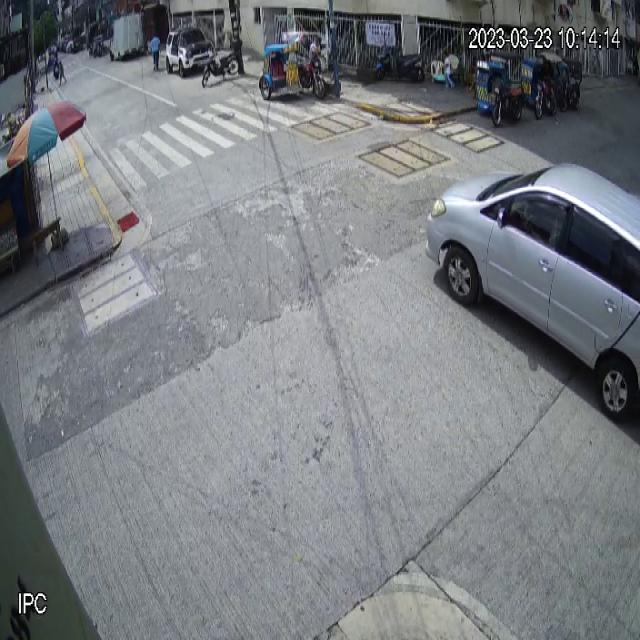Car: (424, 159, 640, 427)
Tricycle: (259, 32, 327, 101)
